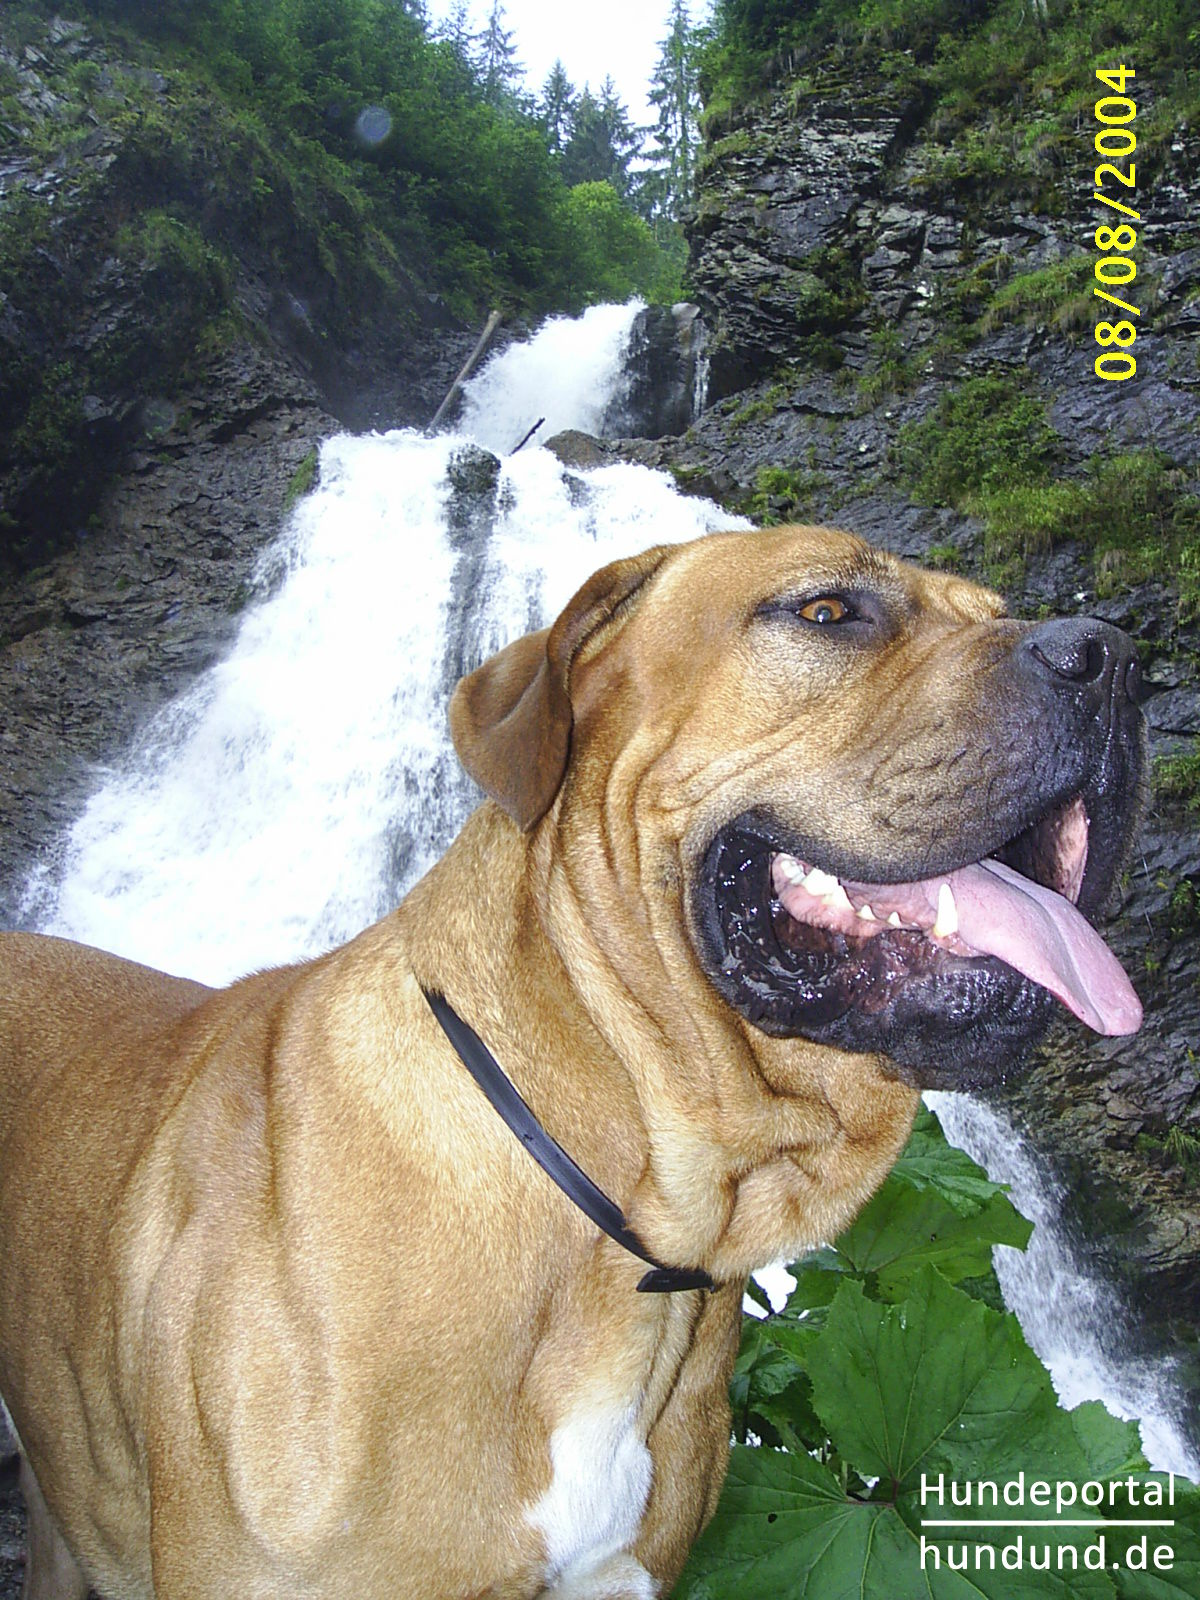tosa_inu: (0, 519, 1152, 1599)
